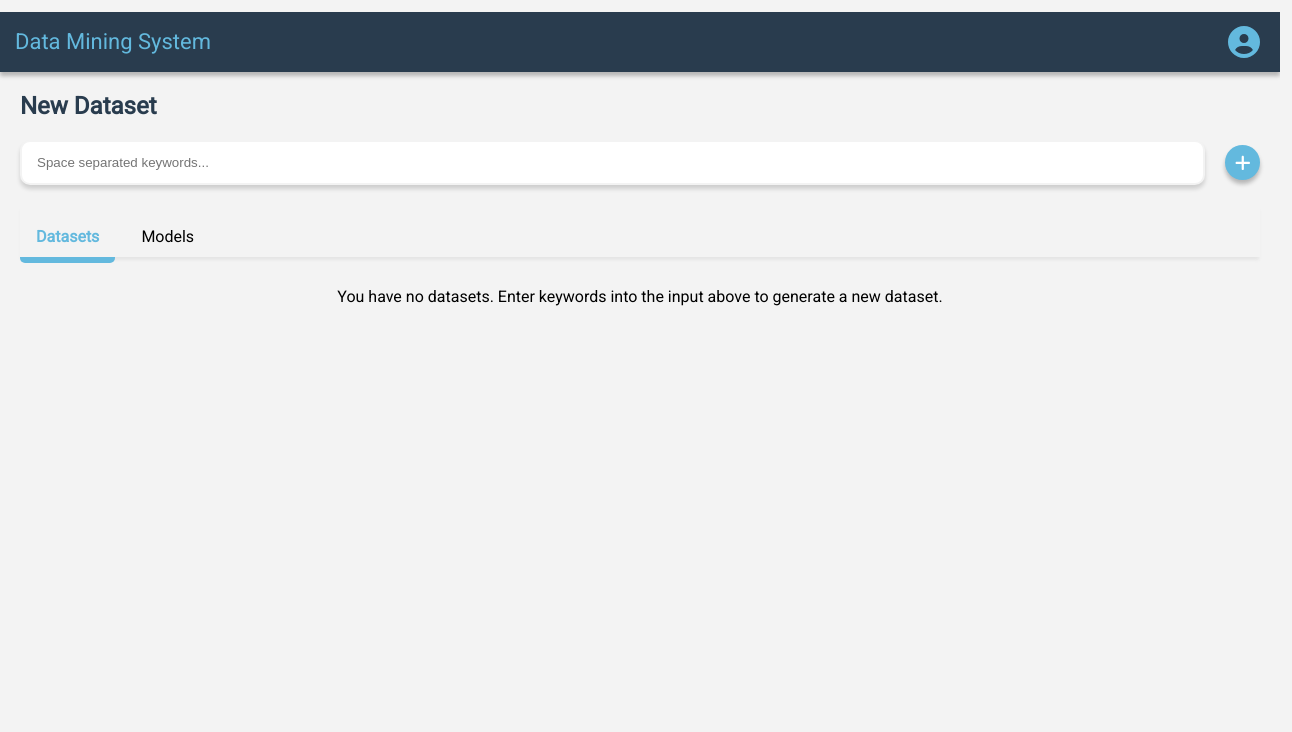
Scenario: Analogy Test Page › White box tests › should show error message if non-number is entered in number field
The image size is (1292, 732).
Click the list item "Models" at (168, 237), box [141,227,194,246]
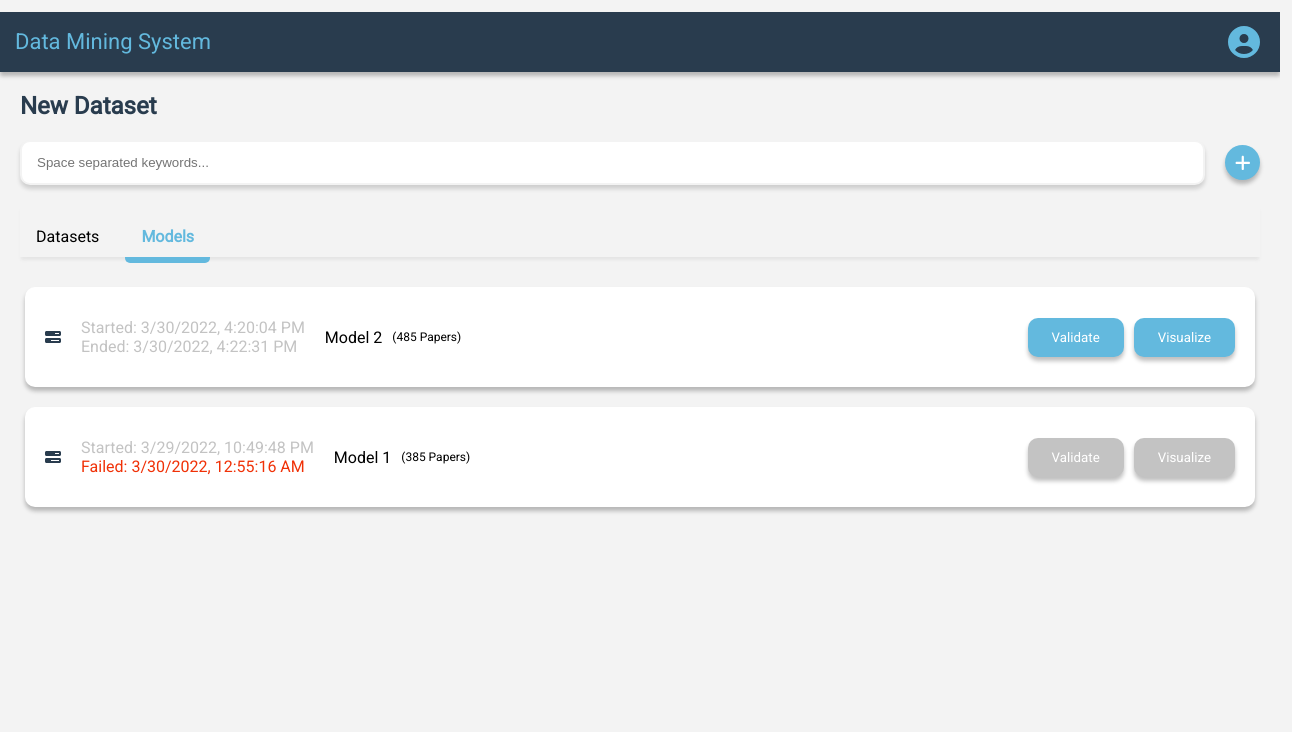
Click the button "Validate" in the row of "485" at (1076, 338), box [1028,318,1124,357]
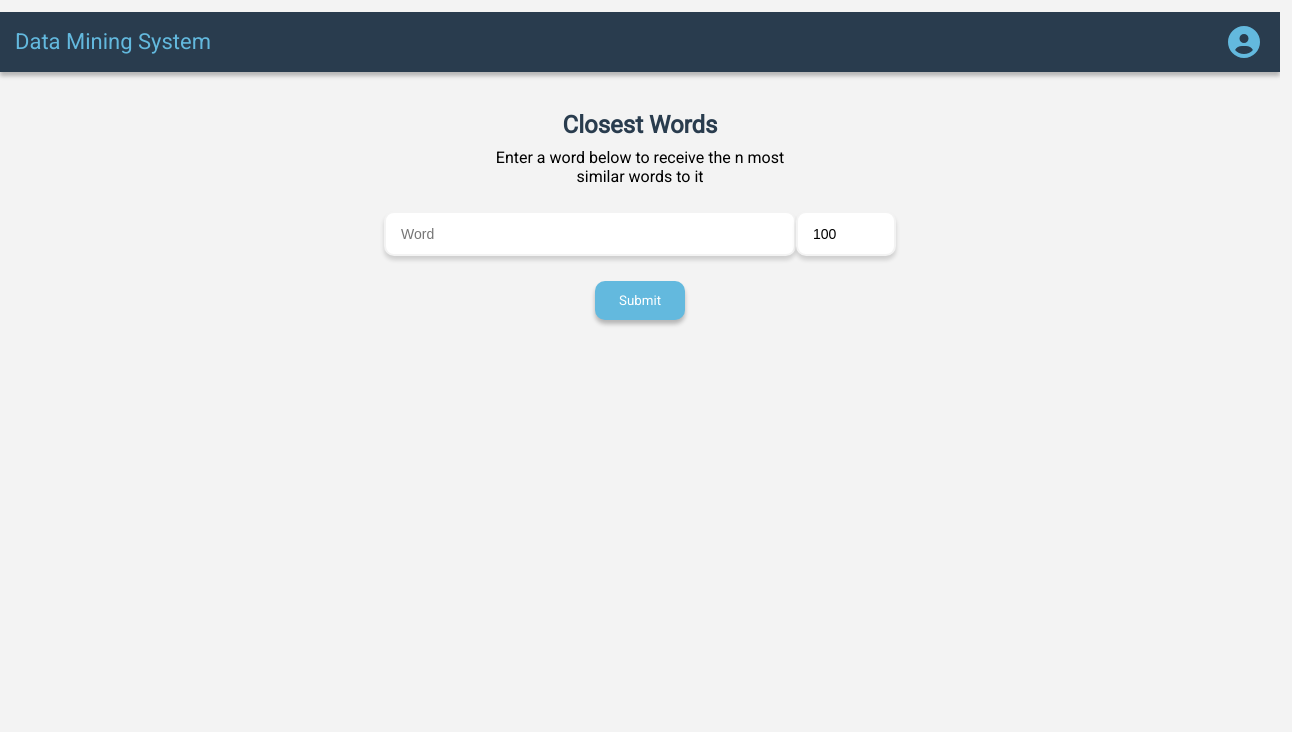
Type "word" into the field with id "closest-word-input" at (590, 234), box [384,211,796,256]
Click the button "Submit" at (640, 301), box [595,281,685,320]
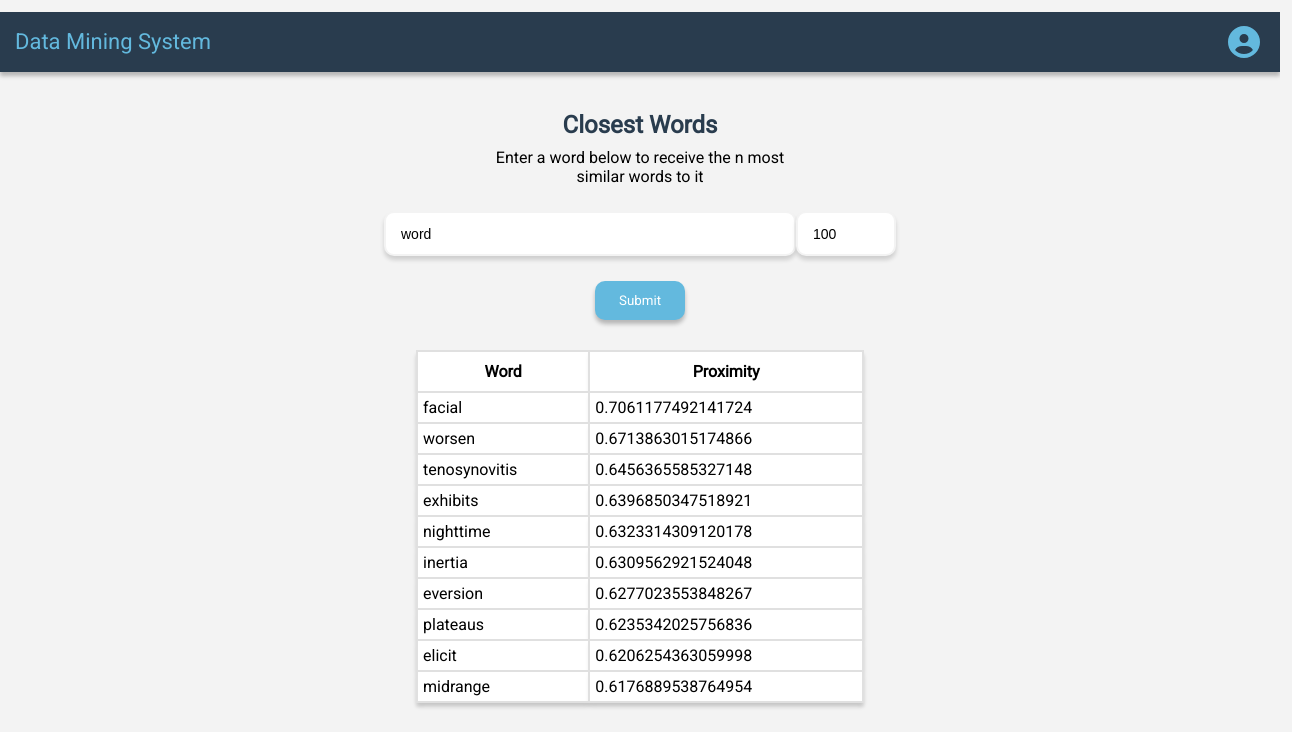
Click the cell "facial" at (503, 408), box [417,392,589,423]
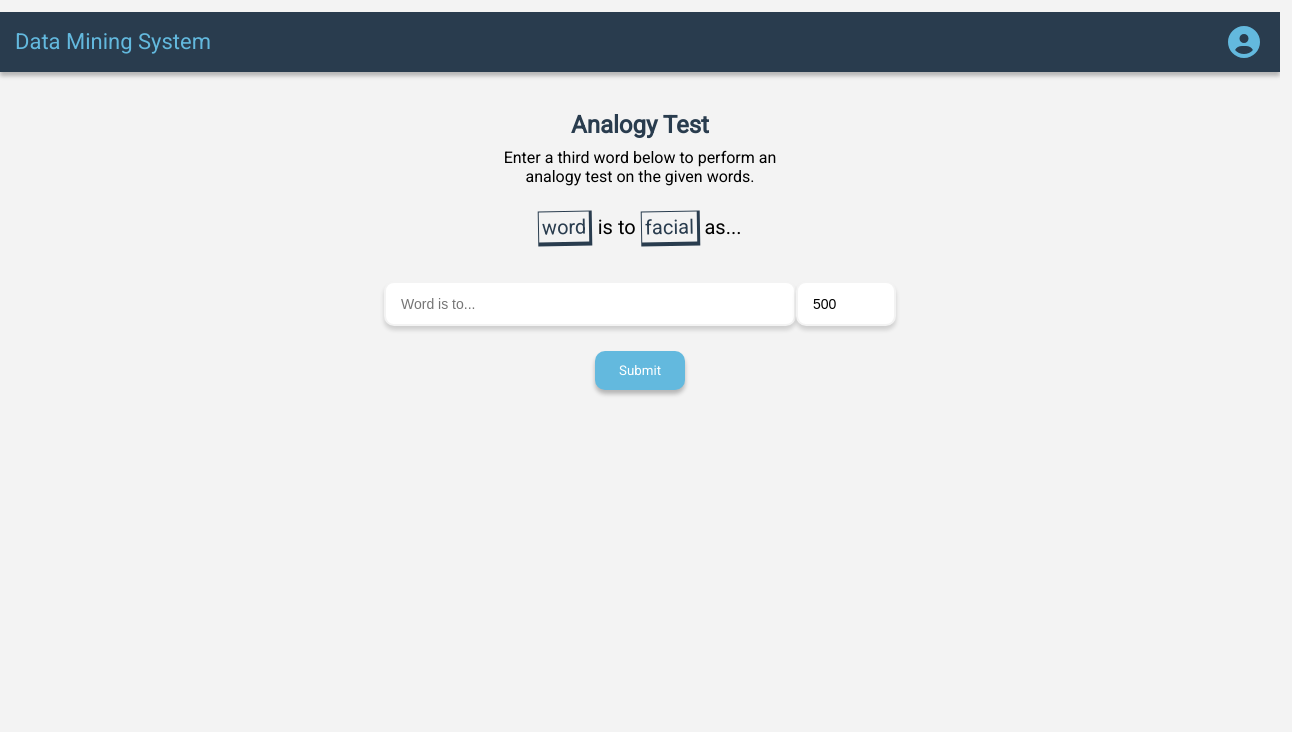
Type "e" into the field with id "closest-word-input" at (590, 304), box [384,281,796,326]
Replace the text in the number field with id "num-closest-word-input" with "e" at (846, 304), box [796,281,896,326]
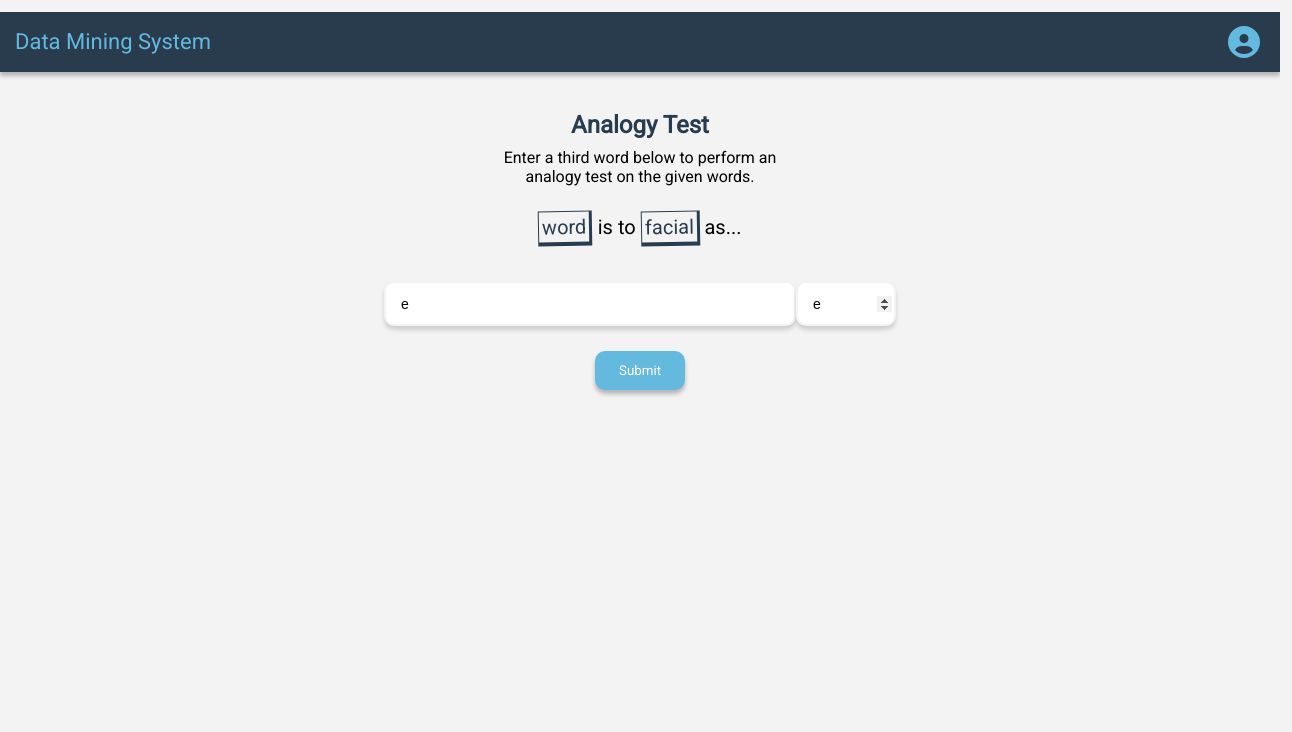
Click the button "Submit" at (640, 371), box [595,351,685,390]
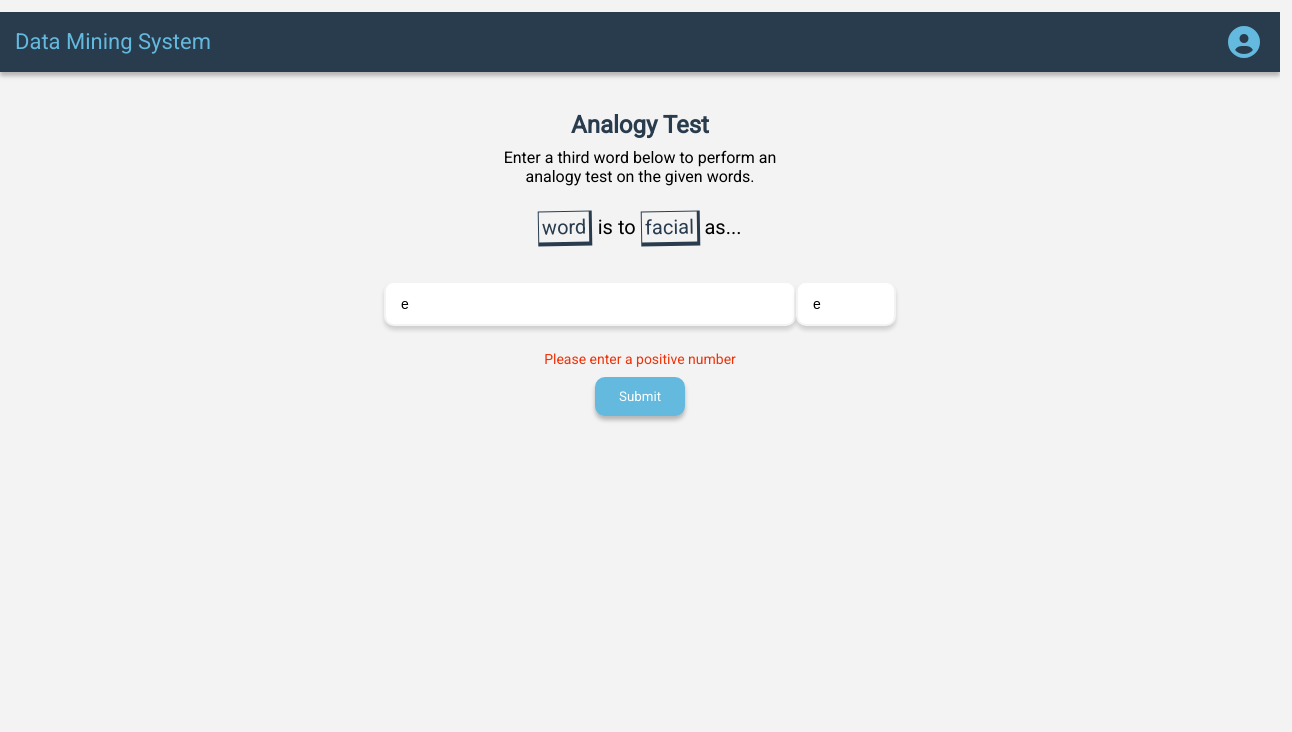
Result: the text "Please enter a positive number" is shown at [544,351,736,367]
